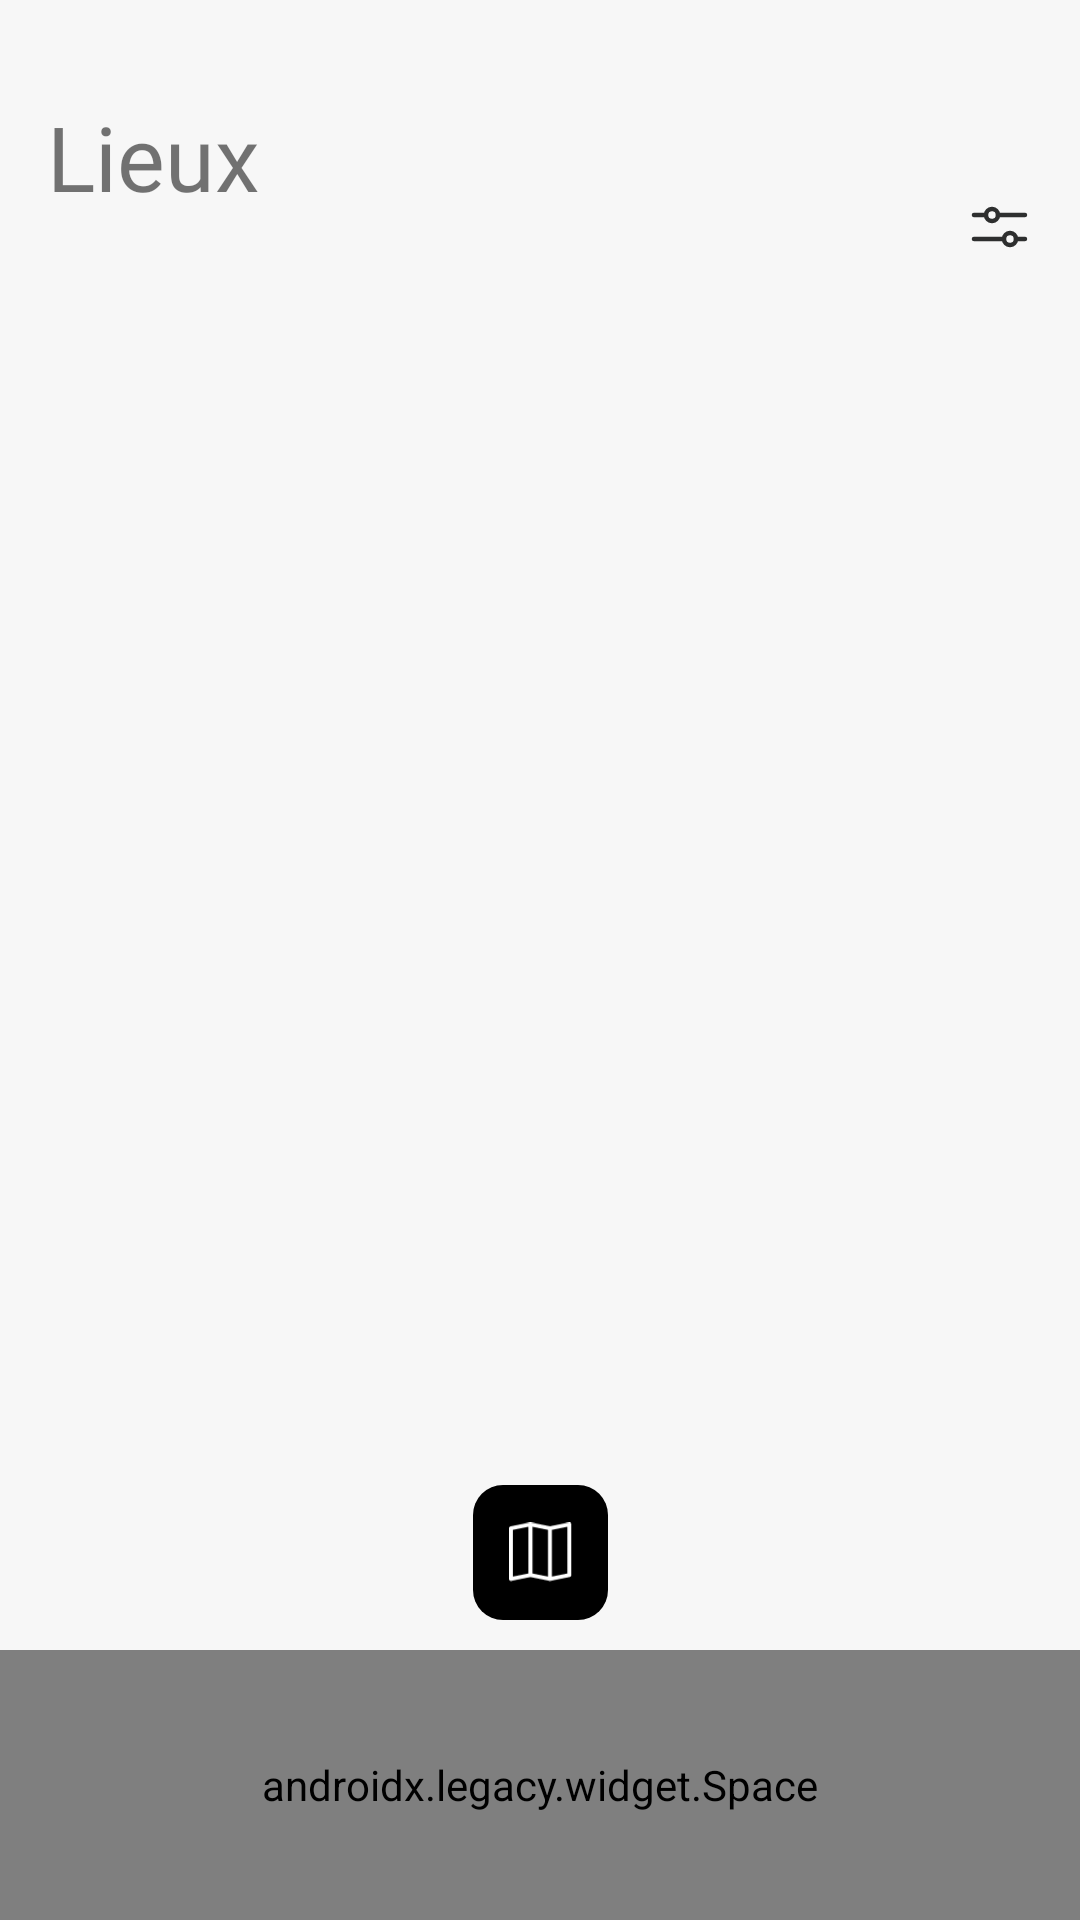

Icon click points for this 1080*1920 phone screenshot, format (x,y):
map: (540,1552)
setting: (999,227)
